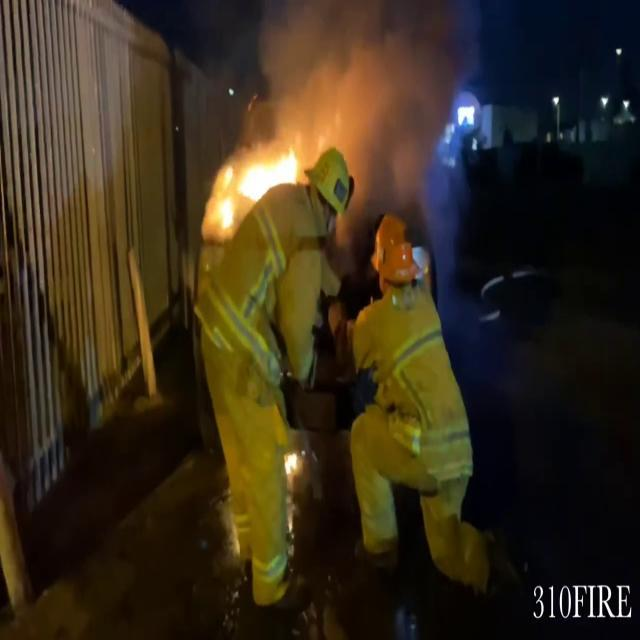Fire: (210, 130, 332, 236)
Smoke: (246, 0, 465, 168)
